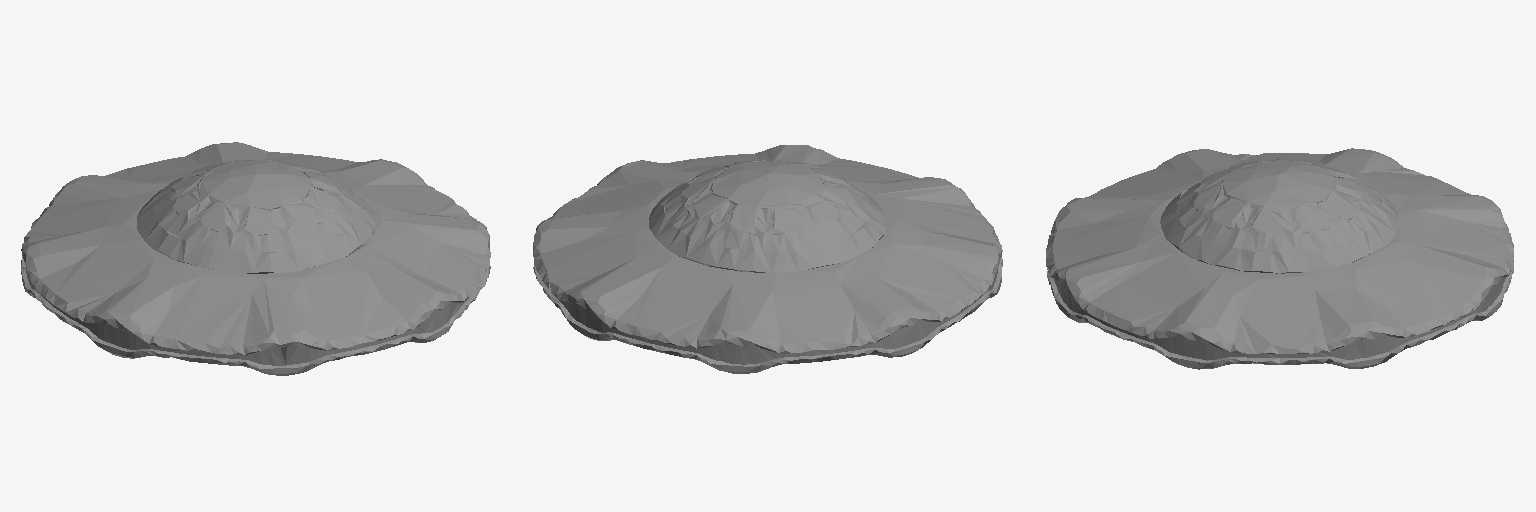
Rendered from frame_077.obj.
The picture shows the model from 3 angles: view 1: azimuth 30°, elevation 25°; view 2: azimuth 150°, elevation 25°; view 3: azimuth 270°, elevation 25°; orthographic projection.
Parts seen in each view (by area): view 1: 13884_UFO_Saucer_v1_l2; view 2: 13884_UFO_Saucer_v1_l2; view 3: 13884_UFO_Saucer_v1_l2.
Boxes of the visible parts, <box> form: 13884_UFO_Saucer_v1_l2: <box>21,142,490,375</box>; 13884_UFO_Saucer_v1_l2: <box>533,145,1002,373</box>; 13884_UFO_Saucer_v1_l2: <box>1046,148,1513,369</box>.
Size of the model in its own units: 12.69 by 4.88 by 12.7.